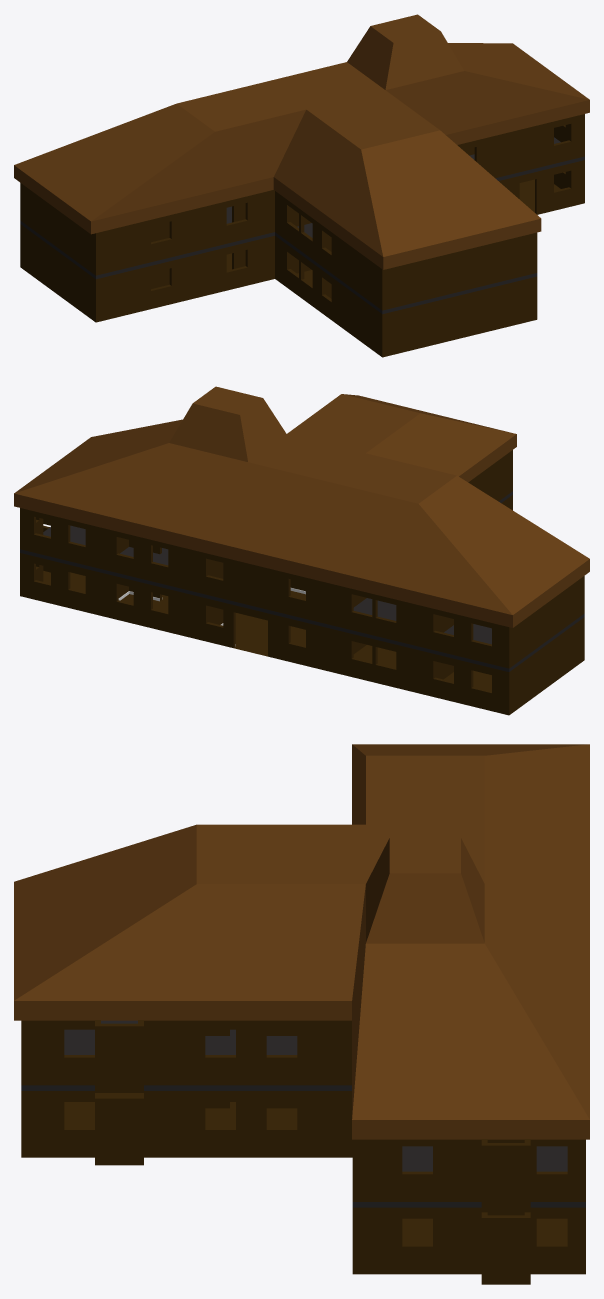
Rendered from houseBlaspheme.gltf.
The picture shows the model from 3 angles, top to bottom: view 1: azimuth 30°, elevation 25°; view 2: azimuth 150°, elevation 25°; view 3: azimuth 270°, elevation 25°; orthographic projection. The views are drawn at different scales.
Visible parts, largest first — view 1: toit, rdc.001, rdc, dalle; view 2: toit, rdc, rdc.001, dalle; view 3: toit, rdc, rdc.001, dalle.
Part boxes in pixels (x1=…): toit: x1=14, y1=14, x2=589, y2=269; rdc.001: x1=20, y1=114, x2=584, y2=310; rdc: x1=20, y1=160, x2=584, y2=357; dalle: x1=20, y1=137, x2=584, y2=314; toit: x1=14, y1=386, x2=589, y2=627; rdc: x1=20, y1=495, x2=584, y2=715; rdc.001: x1=20, y1=450, x2=584, y2=668; dalle: x1=20, y1=491, x2=584, y2=671; toit: x1=14, y1=744, x2=589, y2=1139; rdc: x1=21, y1=1091, x2=585, y2=1284; rdc.001: x1=21, y1=1020, x2=585, y2=1212; dalle: x1=21, y1=1020, x2=585, y2=1207.
Size of the model in its own units: 29.49 by 10.87 by 18.77.
